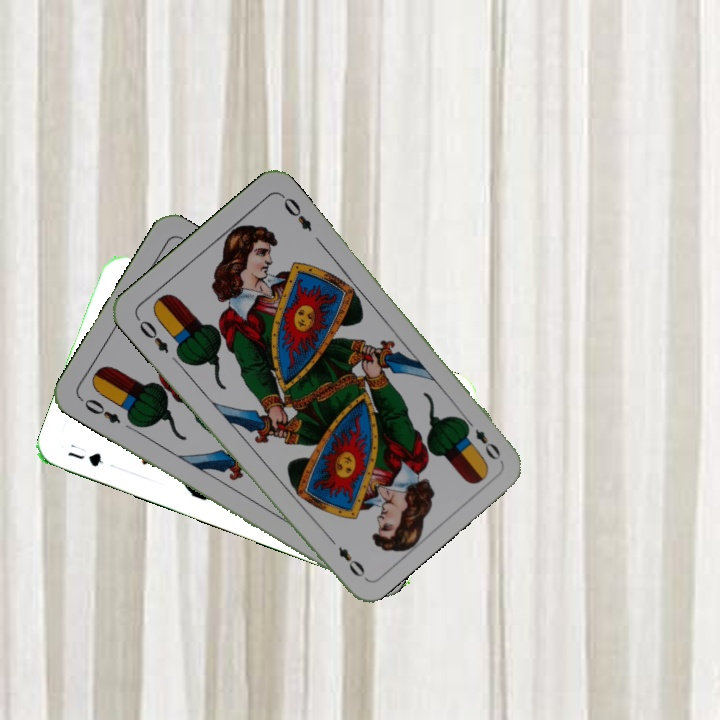EO: (459, 414, 504, 463), (132, 312, 172, 356), (76, 394, 124, 426)
GU: (64, 439, 105, 470)
